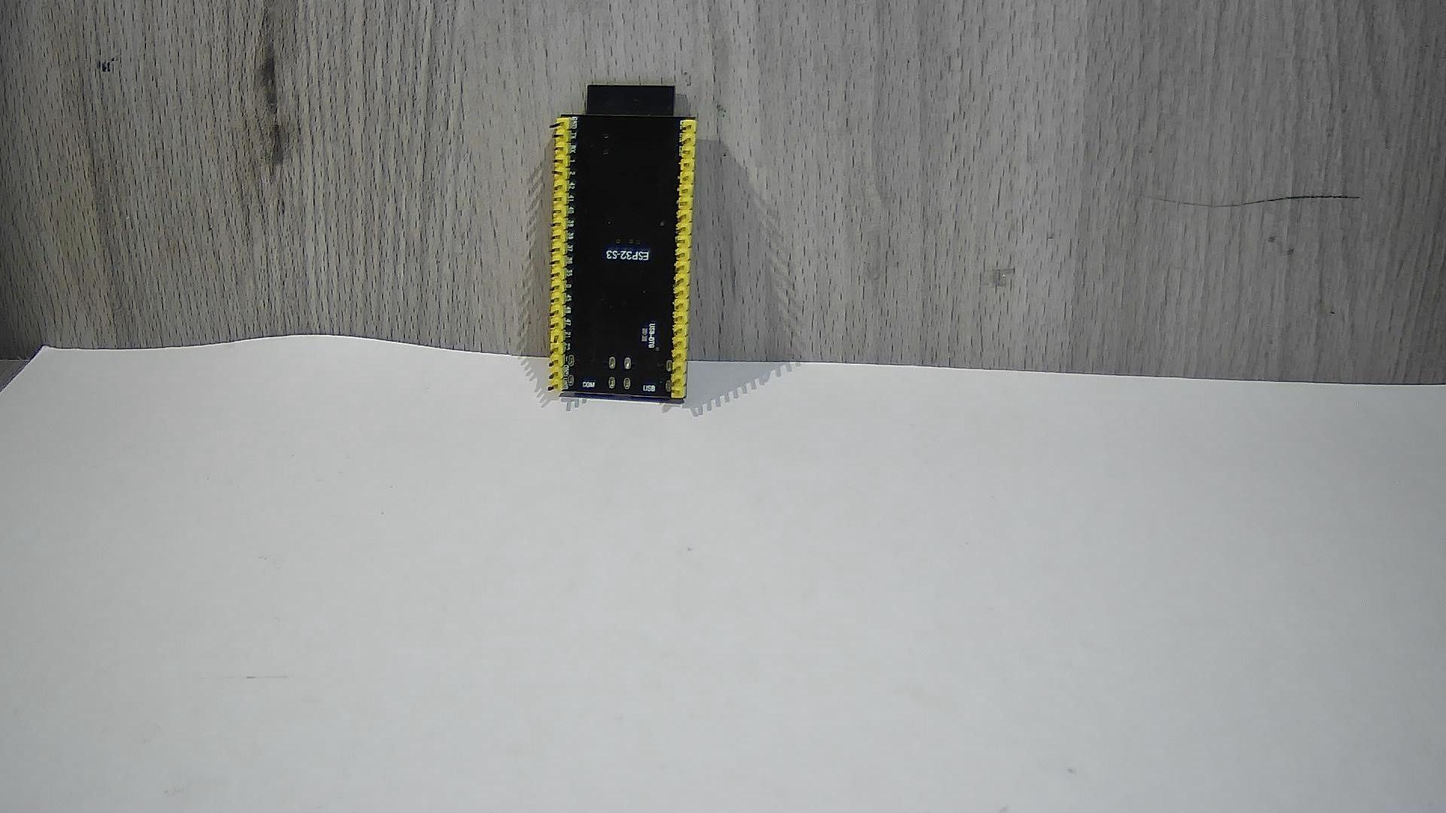ESP32: (520, 25, 736, 424)
